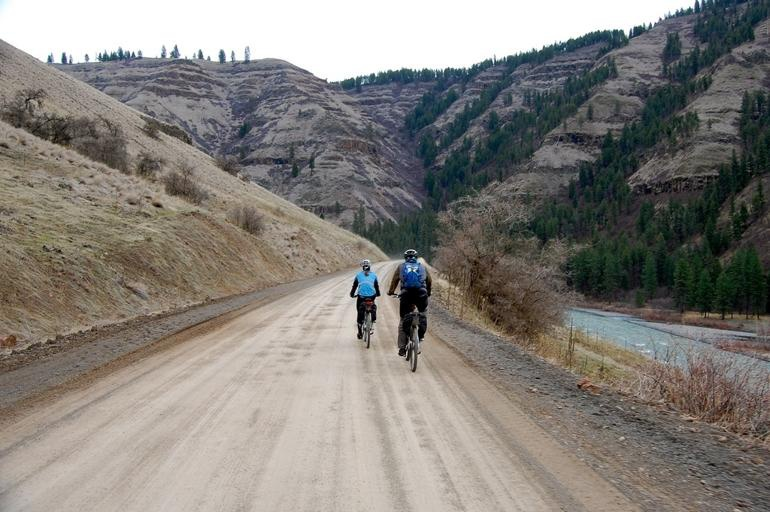non-vehicle: (383, 289, 423, 373), (350, 293, 375, 350)
